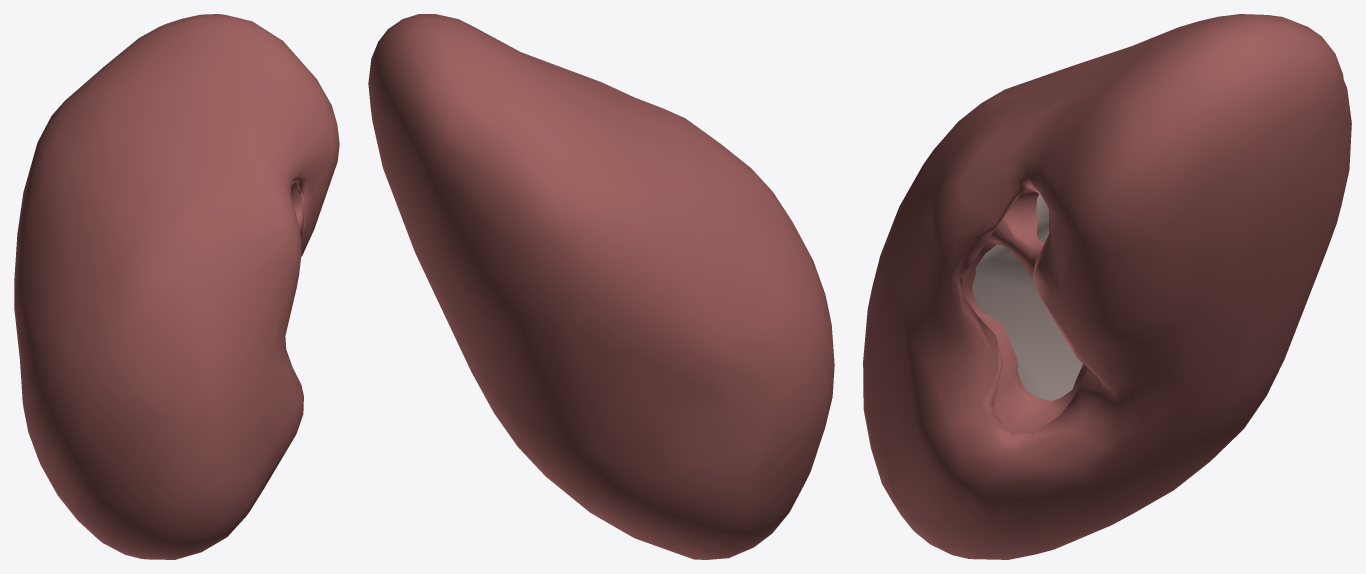
The model's file is vh_f_kidney_r-20.glb.
The picture shows the model from 3 angles, left to right: view 1: azimuth 30°, elevation 25°; view 2: azimuth 150°, elevation 25°; view 3: azimuth 270°, elevation 25°; orthographic projection. The views are drawn at different scales.
Parts seen in each view (by area): view 1: VH_F_kidney_capsule_R; view 2: VH_F_kidney_capsule_R; view 3: VH_F_kidney_capsule_R, VH_F_renal_column_R, VH_F_hilum_of_kidney_R.
Boxes of the visible parts, x1=… form: VH_F_kidney_capsule_R: x1=14, y1=14, x2=339, y2=559; VH_F_kidney_capsule_R: x1=368, y1=14, x2=834, y2=559; VH_F_kidney_capsule_R: x1=863, y1=14, x2=1351, y2=559; VH_F_renal_column_R: x1=972, y1=194, x2=1082, y2=400; VH_F_hilum_of_kidney_R: x1=961, y1=189, x2=1087, y2=434.
Bounding box in the file's own units: 0.0733 × 0.0978 × 0.0695.
